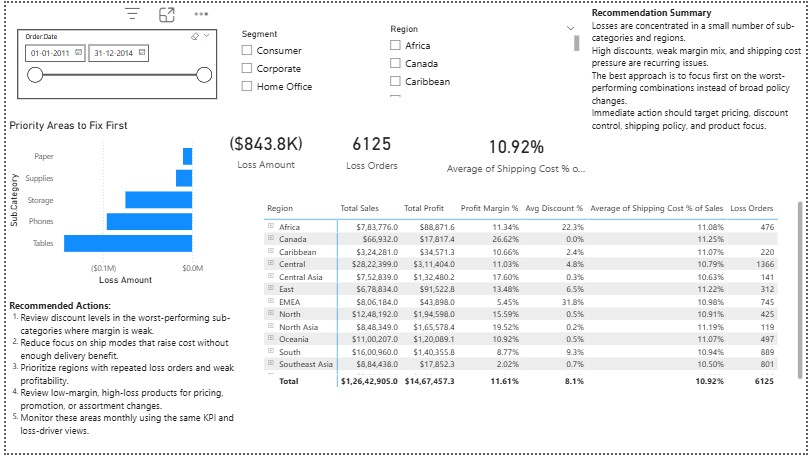

The page's visual inventory and layout, read from the dashboard file:
{"tool":"powerbi","page":{"name":"Action Plan & Recommendations","canvas":[1280,720],"ordinal":5},"visuals":[{"type":"slicer","fields":{"Values":["superstore.Order.Date"]},"box":[18,42,320,112],"z":0},{"type":"slicer","fields":{"Values":["superstore.Segment"]},"box":[363.3,35,320,150],"z":1000},{"type":"slicer","fields":{"Values":["superstore.Region"]},"box":[602.5,27.5,320,127.5],"z":2000},{"type":"textbox","box":[932.5,0,347.5,217.5],"z":3000},{"type":"card","fields":{"Values":["superstore.Loss Amount"]},"box":[310,170,212.5,127.5],"z":4000},{"type":"card","fields":{"Values":["superstore.Loss Orders"]},"box":[487.5,165,195,137.5],"z":5000},{"type":"card","fields":{"Values":["Avg(superstore.Shipping Cost % of Sales)"]},"box":[700,175,232.5,127.5],"z":6000},{"type":"clusteredBarChart","title":"Priority Areas to Fix First","fields":{"Category":["superstore.Sub.Category"],"Y":["superstore.Loss Amount"]},"box":[0,185,320,270],"z":7000},{"type":"pivotTable","fields":{"Rows":["superstore.Region","superstore.Sub.Category"],"Values":["superstore.Total Sales","superstore.Total Profit","superstore.Profit Margin %","superstore.Avg Discount %","Avg(superstore.Shipping Cost % of Sales)","superstore.Loss Orders"]},"box":[407.5,312.5,872.5,307.5],"z":8000},{"type":"textbox","box":[0,467.5,390,230],"z":10000}]}

Visuals, with their boxes in screenshot pixels (x1, y1, x2, y2), scaled from the page's 1280x720 canvas onto the 811x461 screenshot:
slicer - superstore.Order.Date: 11:27:214:99
slicer - superstore.Segment: 230:22:433:118
slicer - superstore.Region: 382:18:584:99
textbox: 591:0:810:139
card - superstore.Loss Amount: 196:109:331:190
card - superstore.Loss Orders: 309:106:432:194
card - Avg(superstore.Shipping Cost % of Sales): 444:112:591:194
"Priority Areas to Fix First" clusteredBarChart: 0:118:203:291
pivotTable - superstore.Region x superstore.Sub.Category: 258:200:810:397
textbox: 0:299:247:447
